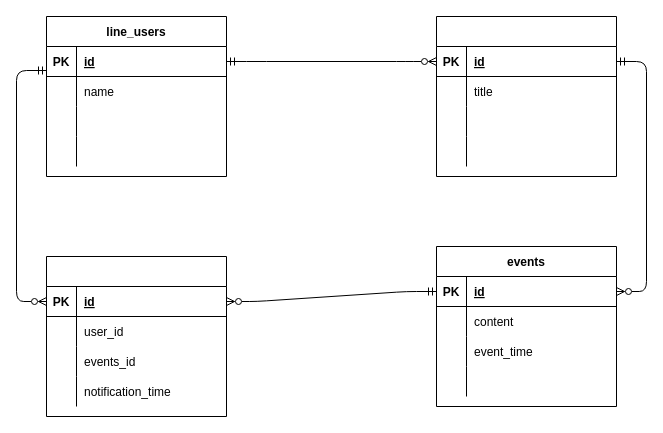
The diagram is 663 pixels wide and 433 high, and some of its shapes have lost their labels. The box of each missing label's shape, as (x1, y1, x2, y2) in pixels:
mobile_game_apllications: (436, 16, 616, 176)
notifications: (46, 256, 226, 416)
